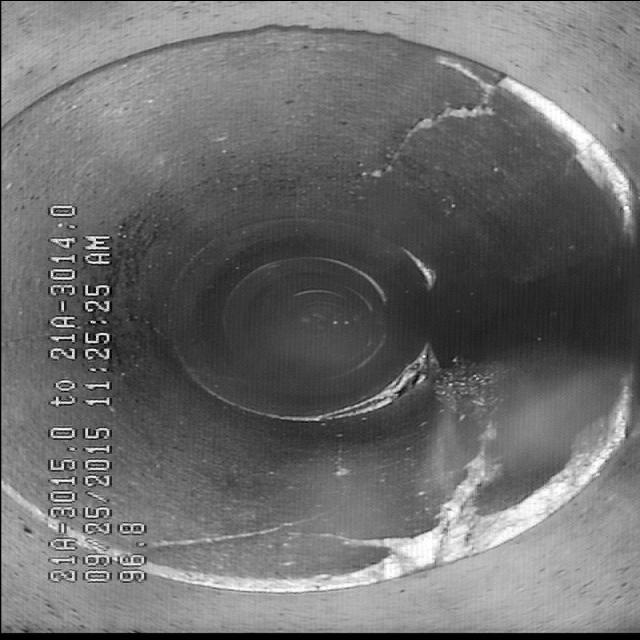Fracture: (222, 474, 492, 588), (337, 66, 495, 192)
